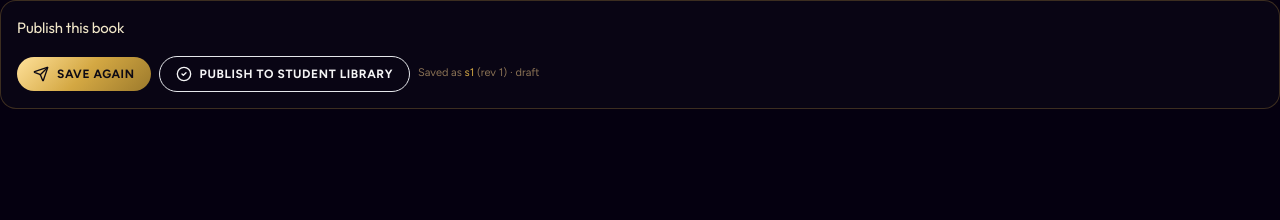
Publish requires explicit confirmation before calling the API
Later steps or results of the test are not shown.
Click the button with test id "bf-publish-btn". click: coordinates (284, 74)
box: [159,56,410,92]
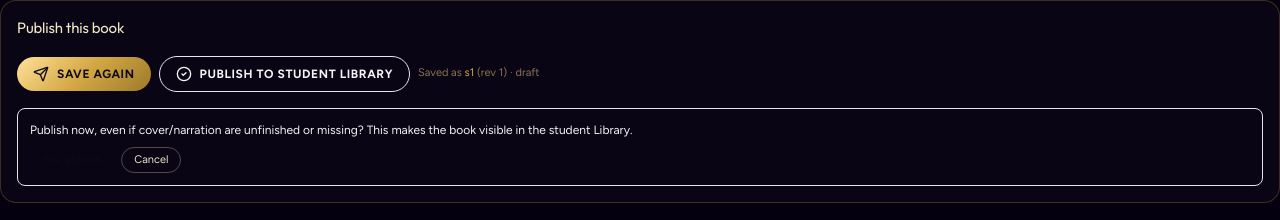
Result: the element with test id "bf-publish-confirm" is shown at [17,108,1263,186]
